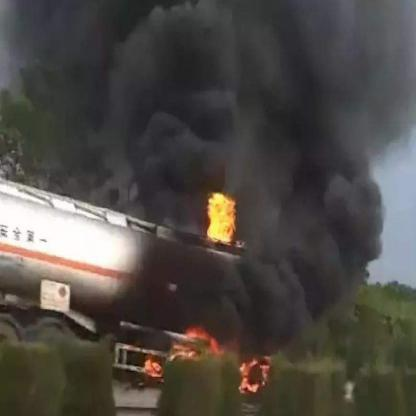fire: (142, 320, 270, 398), (204, 186, 240, 254)
